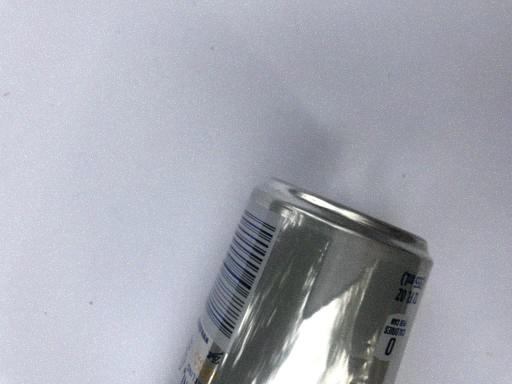cardboard: (0, 5, 512, 378)
plastic: (0, 5, 474, 381)
